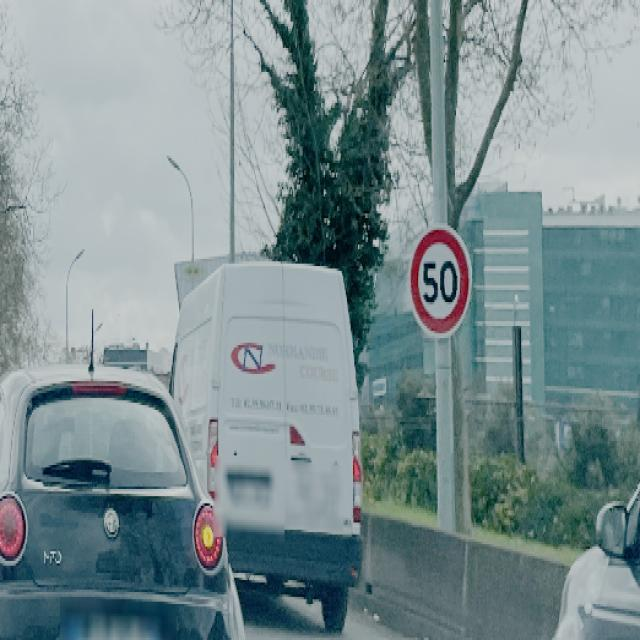speed_50: (406, 223, 473, 341)
